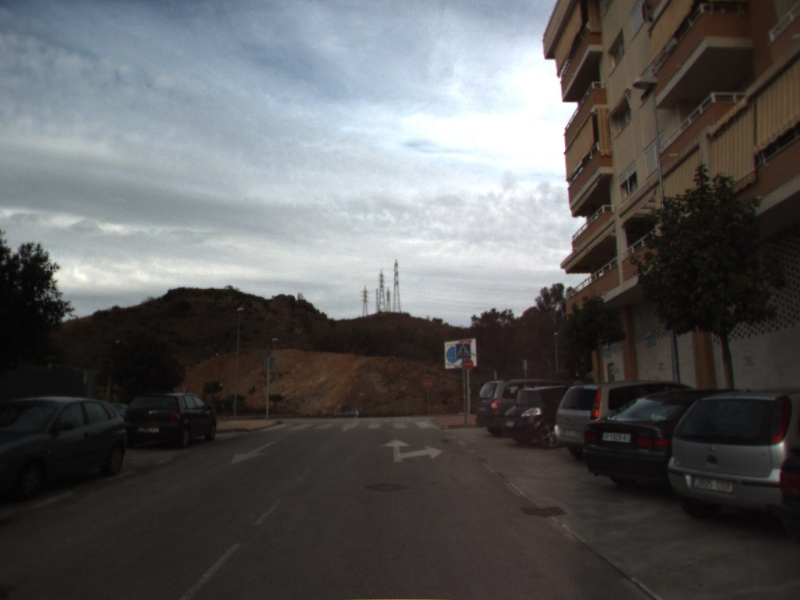STRAIGHT_RIGHT: (379, 437, 445, 465)
